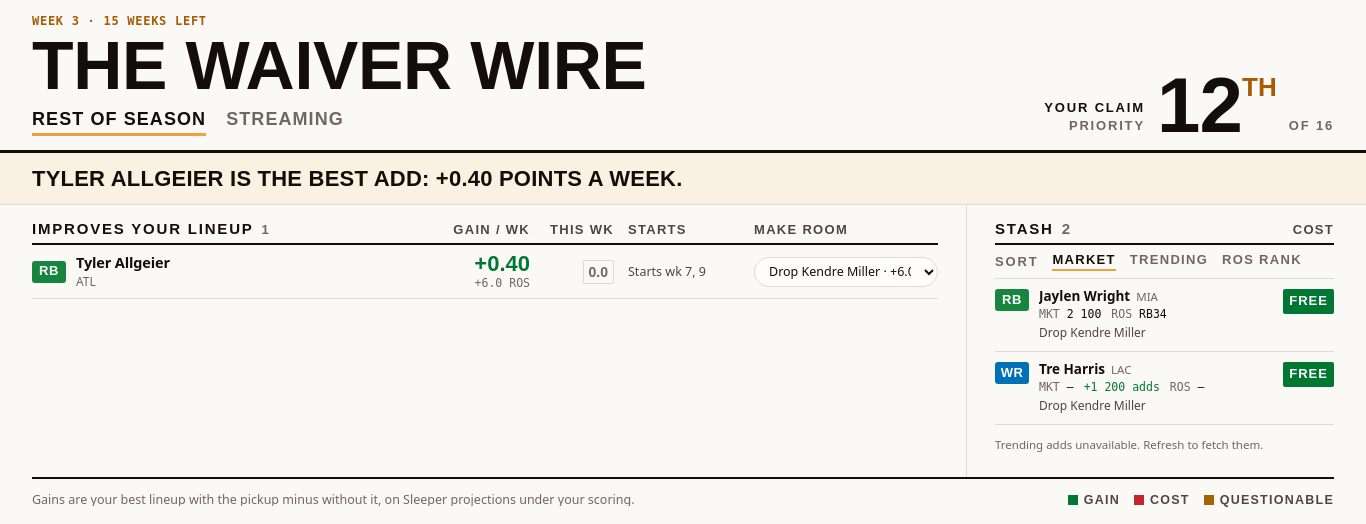
WaiverScreen › switches a row to another release and shows its numbers
Select "Open spot · -3.00" in the dropdown named "Release for Tyler Allgeier" at (846, 272), box [754, 257, 938, 287]
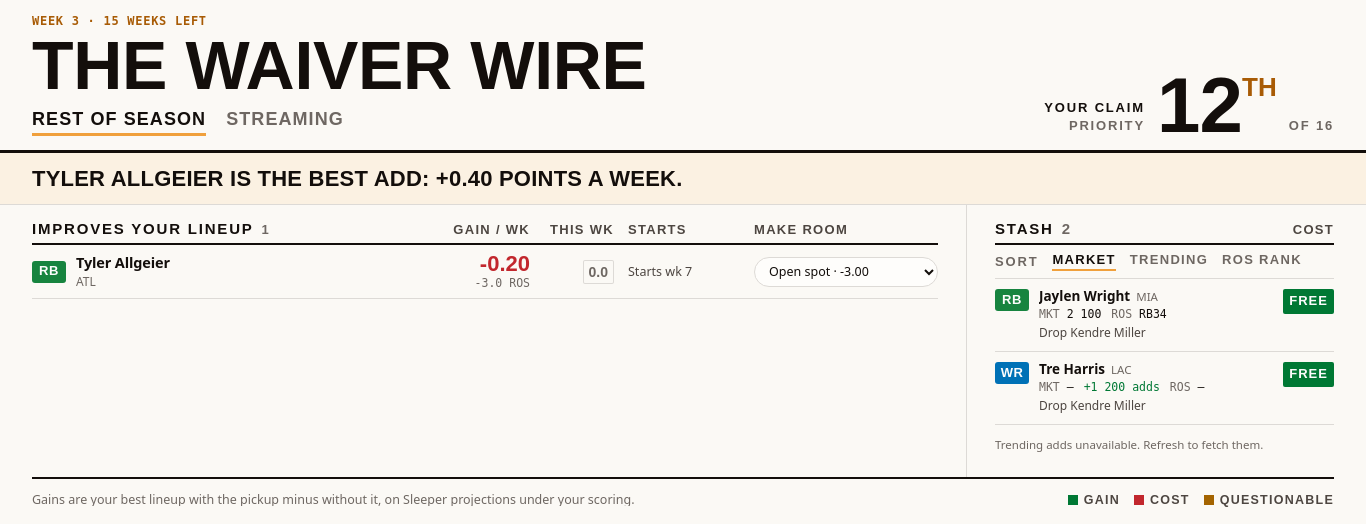
Check: the text "Starts wk 7" is shown, box [628, 263, 692, 280]
Check: the text "-0.20" is shown, box [480, 254, 530, 274]
